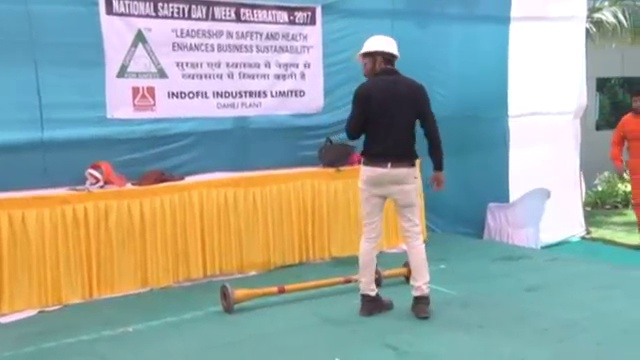helmet: (357, 34, 401, 63)
helmet_off: (629, 89, 640, 117)
helmet_on: (356, 32, 401, 80)
person: (346, 32, 444, 316), (610, 89, 640, 230)
